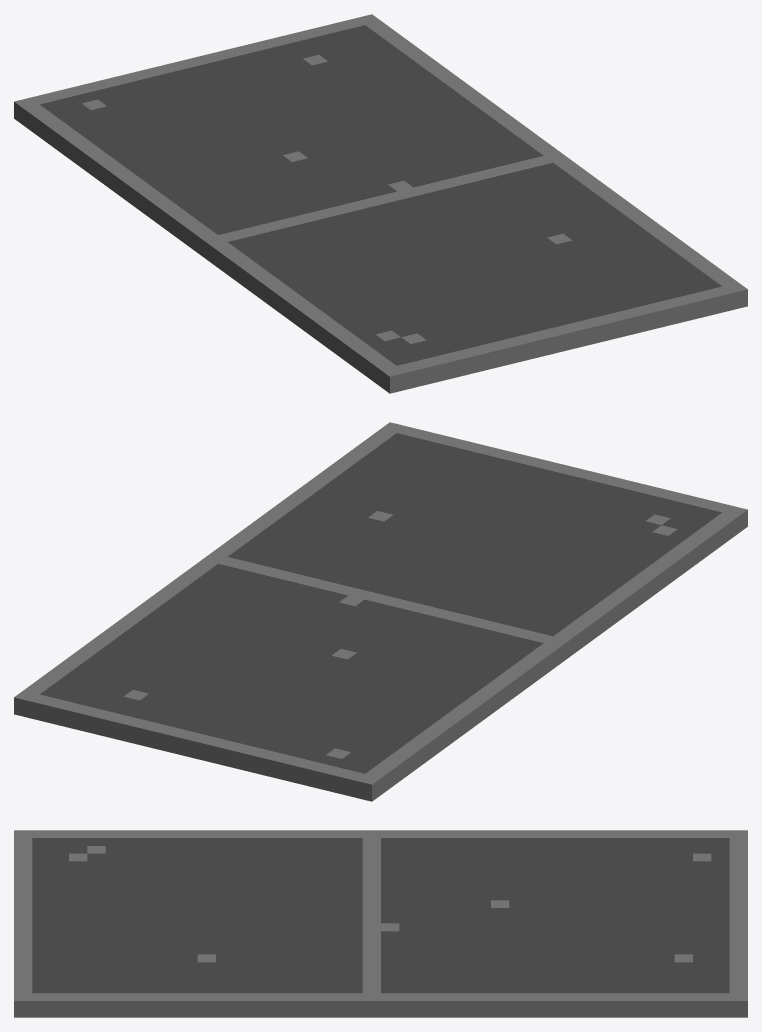
Rendered from asphalt.obj.
3 renders of one model, top to bottom at view 1: azimuth 30°, elevation 25°; view 2: azimuth 150°, elevation 25°; view 3: azimuth 270°, elevation 25°, orthographic. The views are drawn at different scales.
Size of the model in its own units: 2.2 by 0.1 by 4.
Materials: 1 (1 with a texture image).
